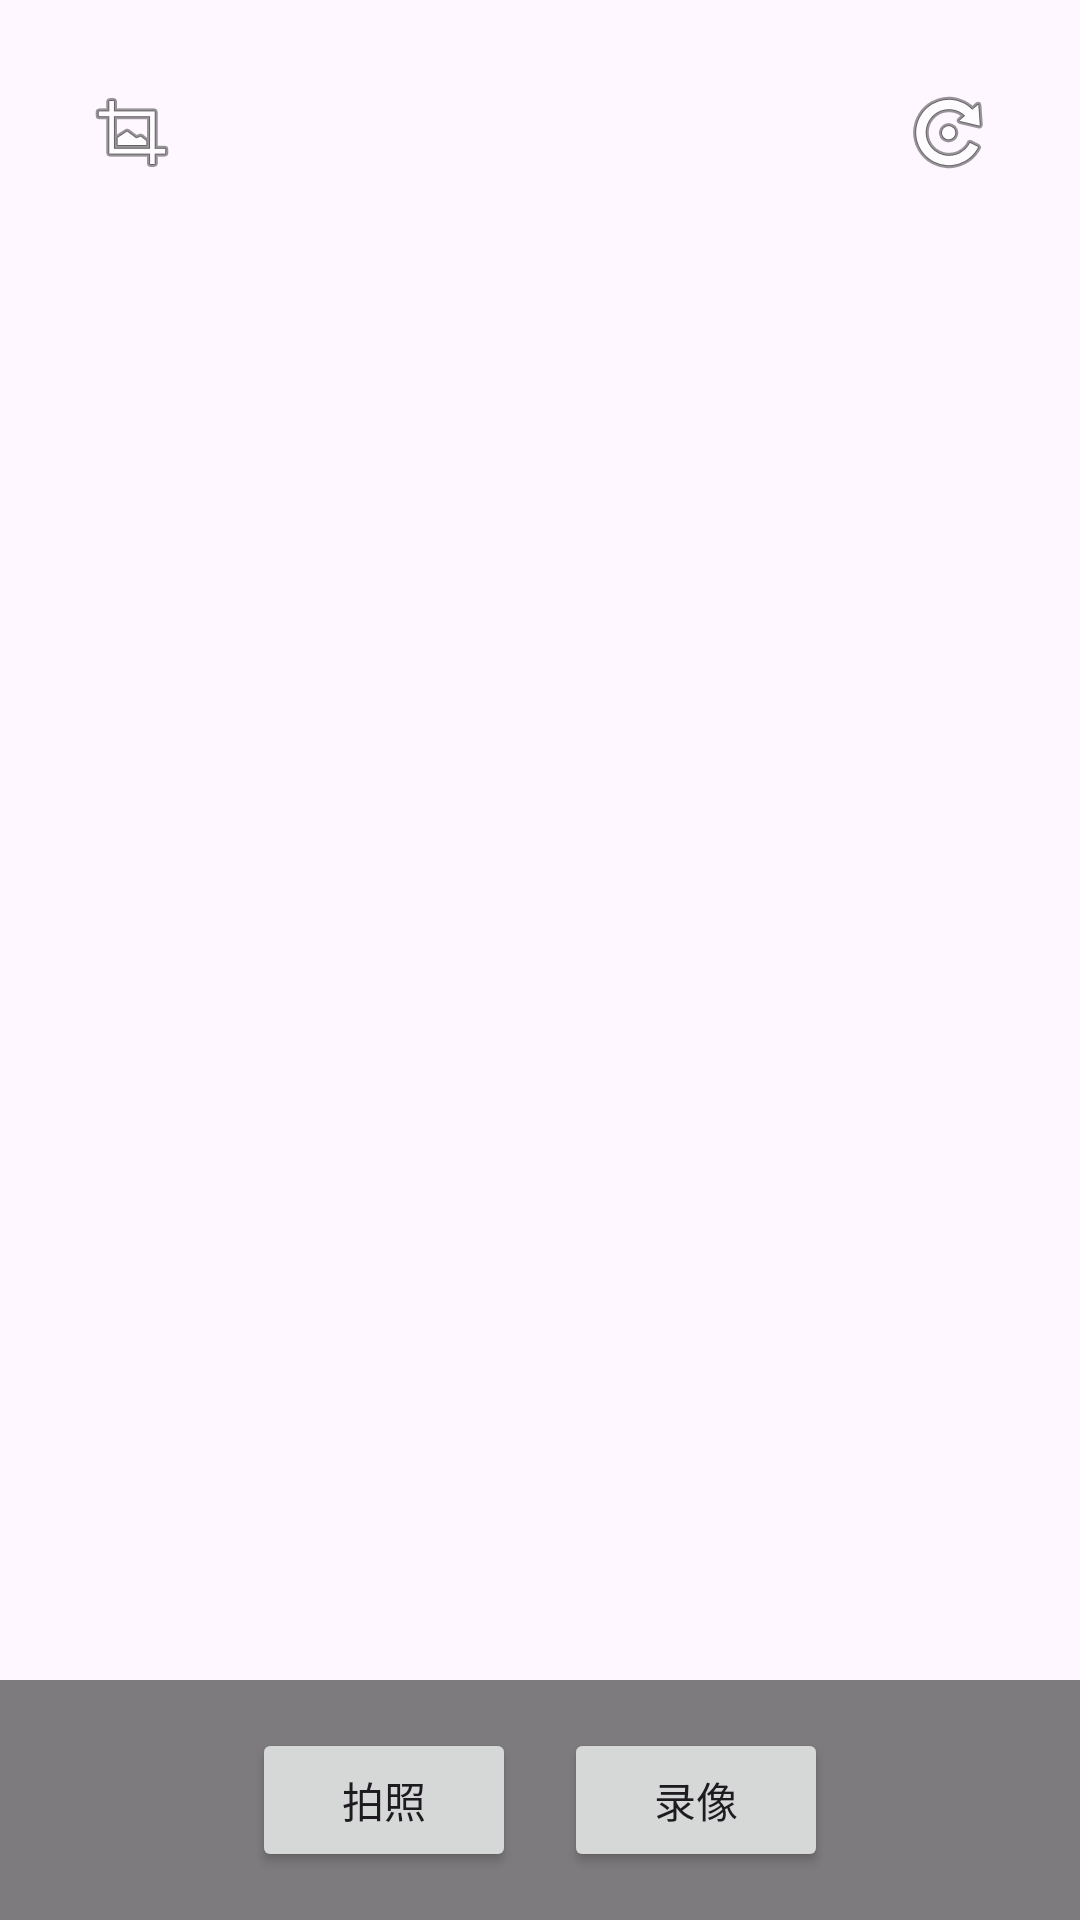

Named icons in this screenshot (1080*1920) and their bounding boxes, (x1, y1, x2, y2):
切换摄像头: (913, 97, 983, 168)
